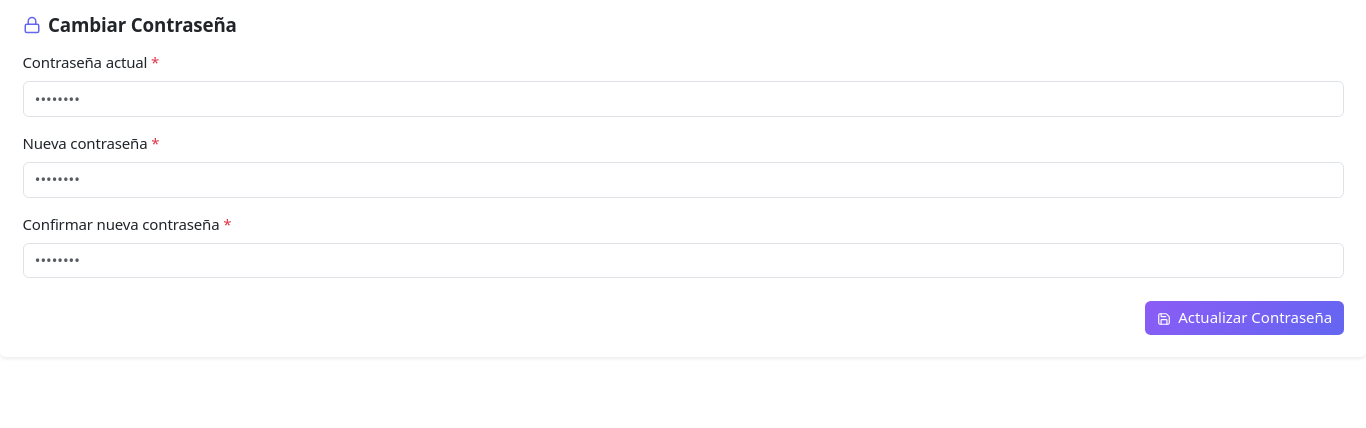
Test: ChangePasswordCard › muestra error si la nueva contraseña es igual a la actual
Type "iguales1" into the password field with placeholder "••••••••" below "Contraseña actual" at (683, 99), box left=22, top=81, right=1344, bottom=117
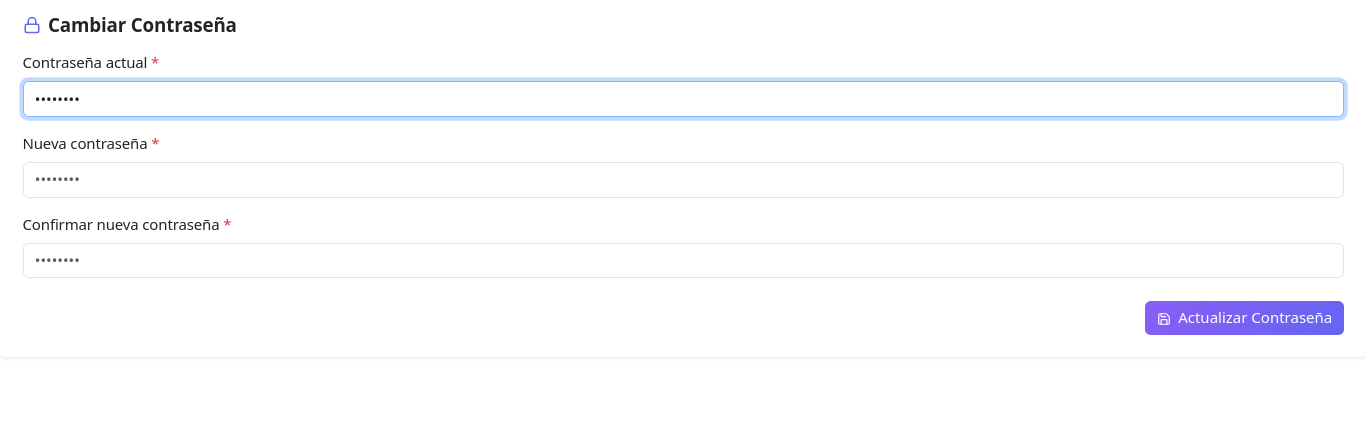
Type "iguales1" into the 1st password field with placeholder "••••••••" at (683, 180), box left=22, top=162, right=1344, bottom=198
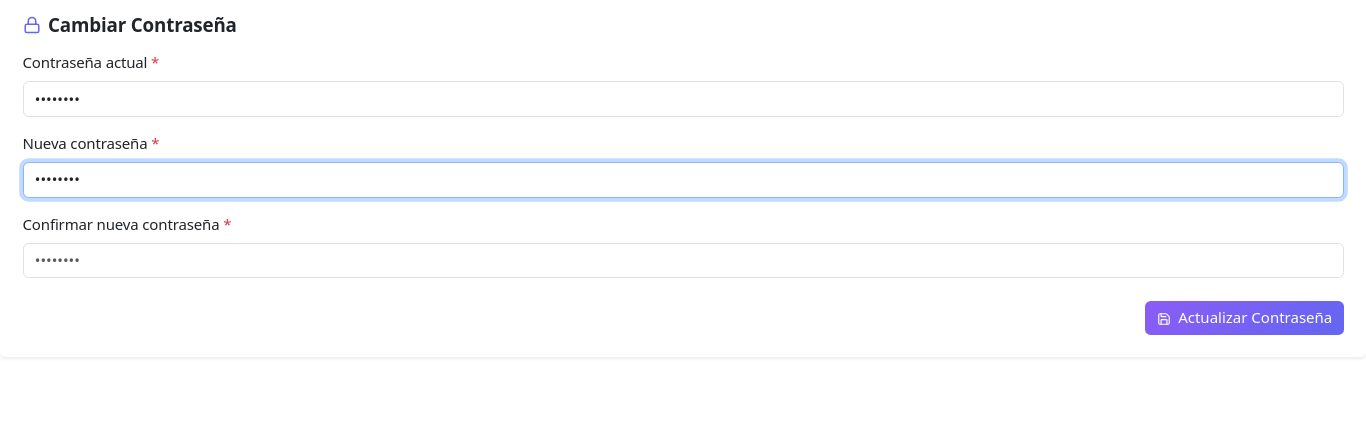
Type "iguales1" into the password field with placeholder "••••••••" at (683, 260), box left=22, top=242, right=1344, bottom=278
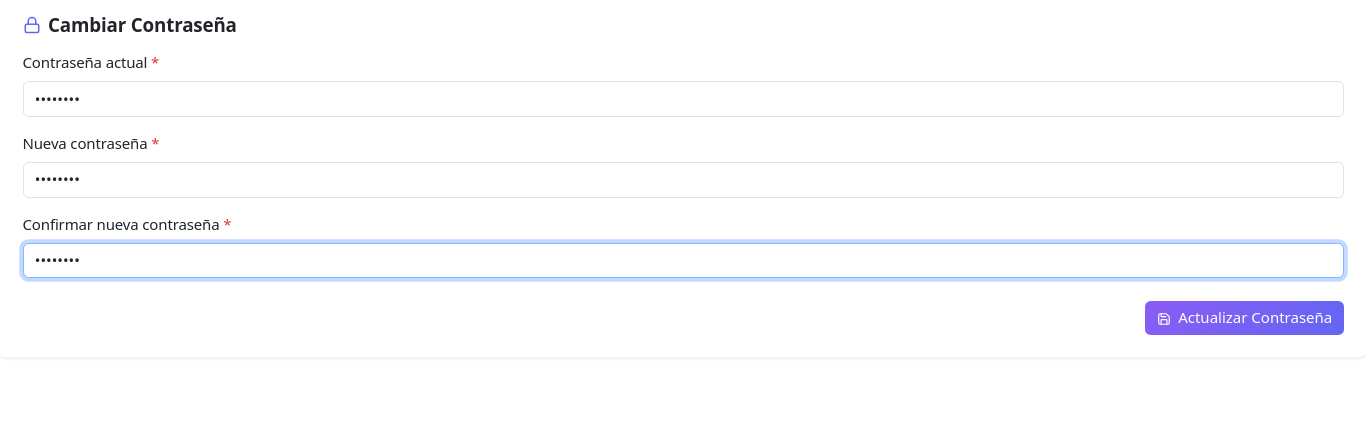
Click the button "Actualizar Contraseña" at (1244, 318), box left=1145, top=301, right=1344, bottom=335
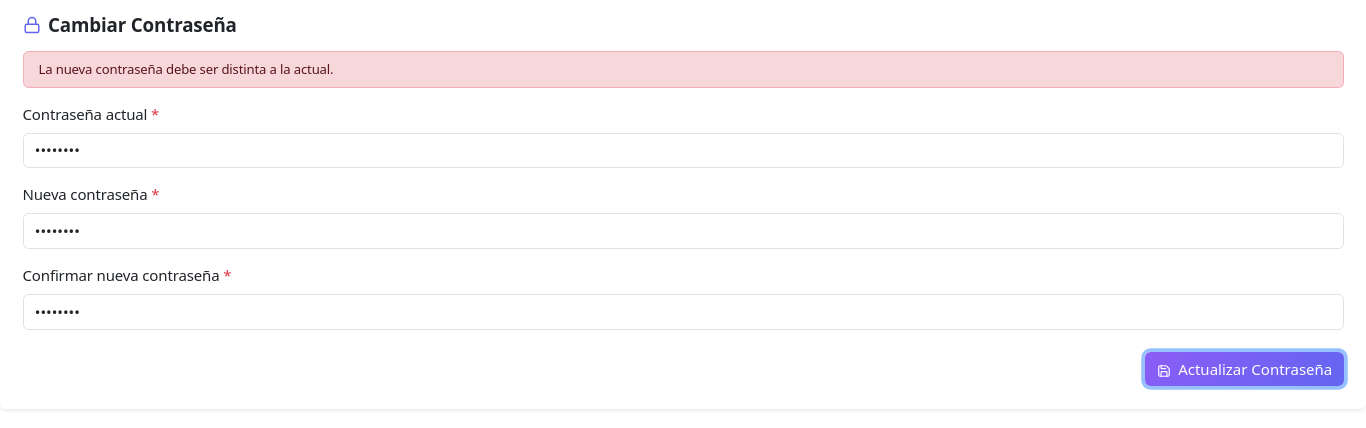
Expected: the text "La nueva contraseña debe ser distinta a la actual." is shown, left=22, top=51, right=1344, bottom=88
